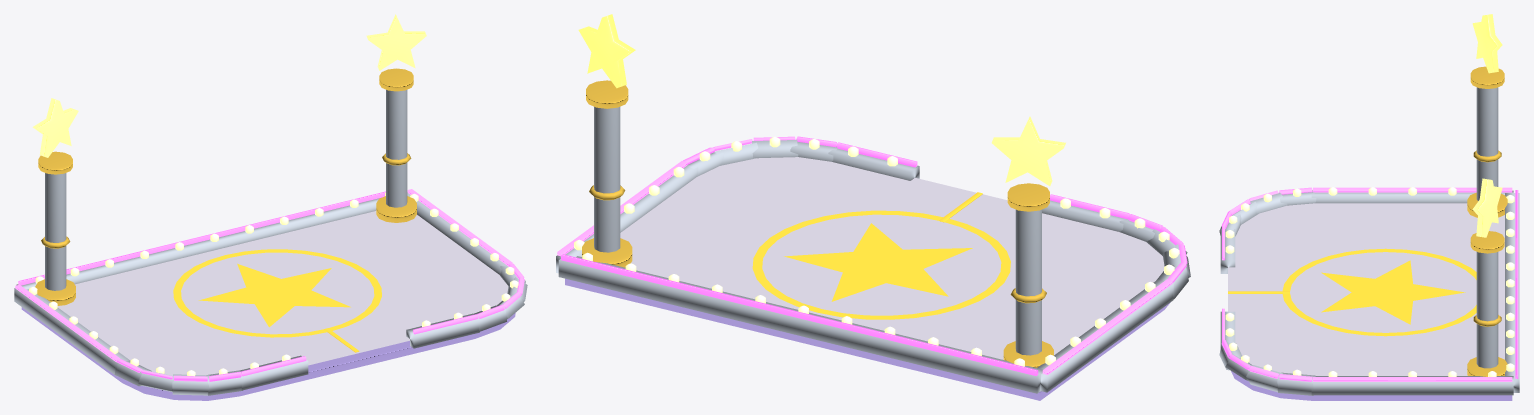
The model's file is runway_end.glb.
3 views of the same model, side by side, from view 1: azimuth 30°, elevation 25°; view 2: azimuth 150°, elevation 25°; view 3: azimuth 270°, elevation 25° (orthographic). The views are drawn at different scales.
Parts seen in each view (by area): view 1: Deck, Rails, Pillars, Inlay; view 2: Deck, Rails, Pillars, Inlay; view 3: Deck, Rails, Pillars, Inlay.
Part boxes in pixels (left/top/right/bottom): Deck: left=21, top=211, right=515, bottom=400; Rails: left=14, top=189, right=527, bottom=395; Pillars: left=32, top=14, right=426, bottom=305; Inlay: left=173, top=249, right=381, bottom=352; Deck: left=565, top=157, right=1170, bottom=400; Rails: left=556, top=136, right=1190, bottom=393; Pillars: left=578, top=14, right=1065, bottom=367; Inlay: left=752, top=192, right=1010, bottom=319; Deck: left=1228, top=203, right=1512, bottom=400; Rails: left=1219, top=187, right=1519, bottom=395; Pillars: left=1467, top=14, right=1507, bottom=376; Inlay: left=1228, top=248, right=1476, bottom=336.
Size of the model in its own units: 2.95 by 1.51 by 1.94.
